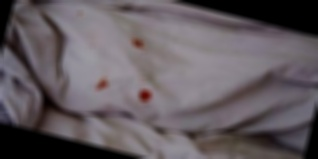blood: (137, 88, 153, 104), (95, 77, 109, 92), (132, 40, 143, 49)
